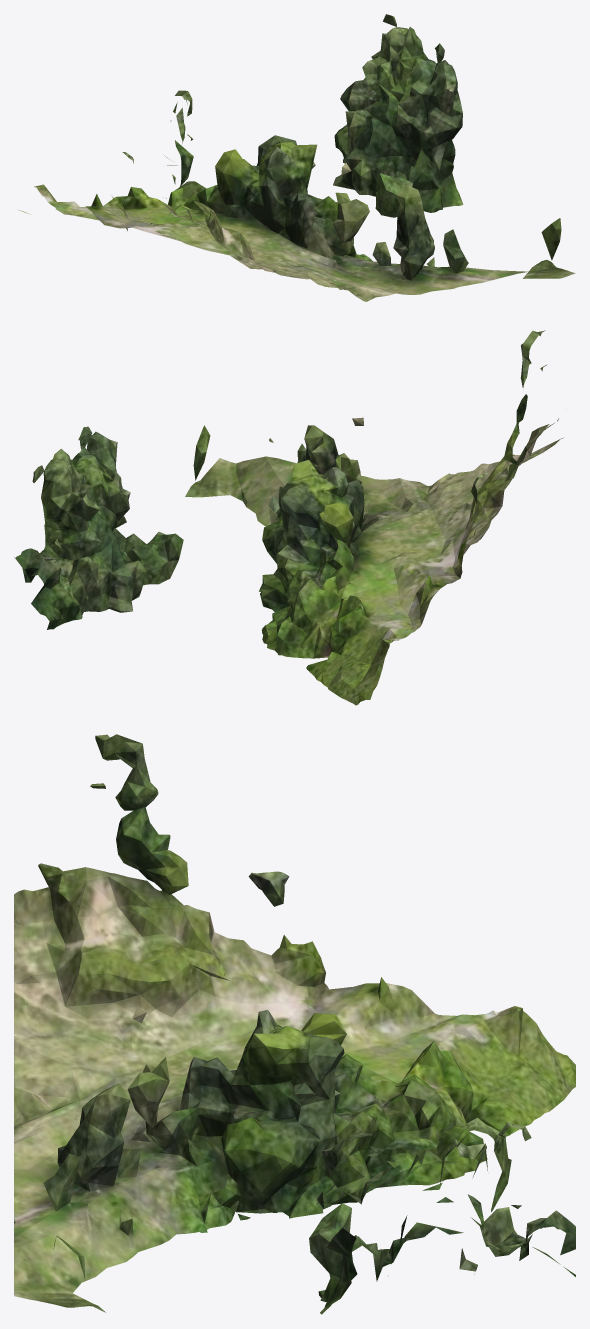
3 views of the same model, one above another, from view 1: azimuth 30°, elevation 25°; view 2: azimuth 150°, elevation 25°; view 3: azimuth 270°, elevation 25° (orthographic). The views are drawn at different scales.
Bounding box in the file's own units: 52.22 × 35.58 × 52.22.
3 materials, 3 textured.
